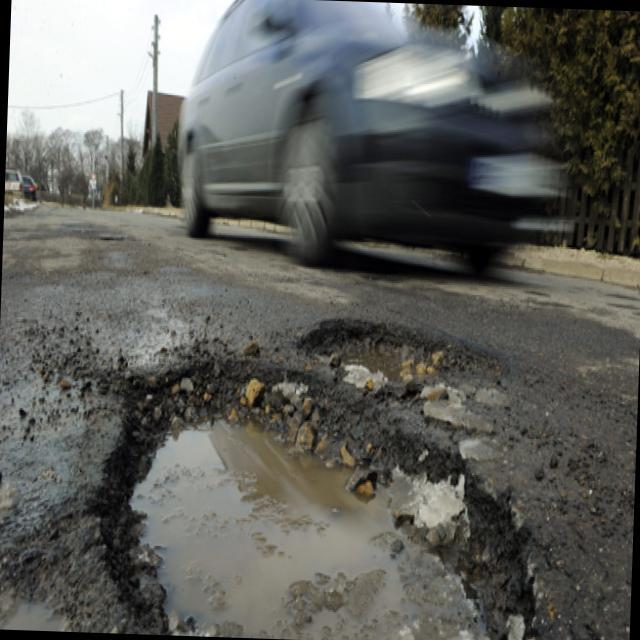Pothole: (96, 364, 321, 640), (308, 310, 488, 392)
